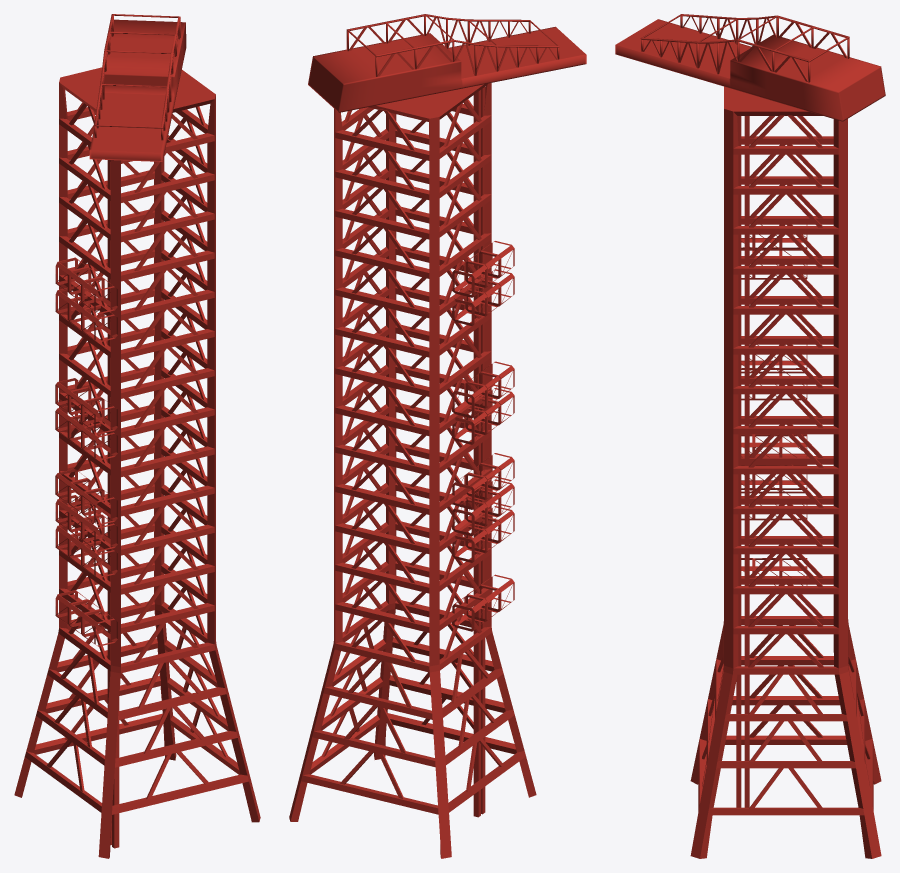
Rendered from tower.glb.
The picture shows the model from 3 angles, left to right: view 1: azimuth 30°, elevation 25°; view 2: azimuth 150°, elevation 25°; view 3: azimuth 270°, elevation 25°; orthographic projection. The views are drawn at different scales.
Visible parts, largest first — view 1: Cube; view 2: Cube; view 3: Cube.
Part boxes in pixels (bbox=[...]): Cube: bbox=[14, 14, 260, 858]; Cube: bbox=[289, 14, 586, 858]; Cube: bbox=[615, 14, 885, 858].
Bounding box in the file's own units: 28.46 × 111 × 34.11.
